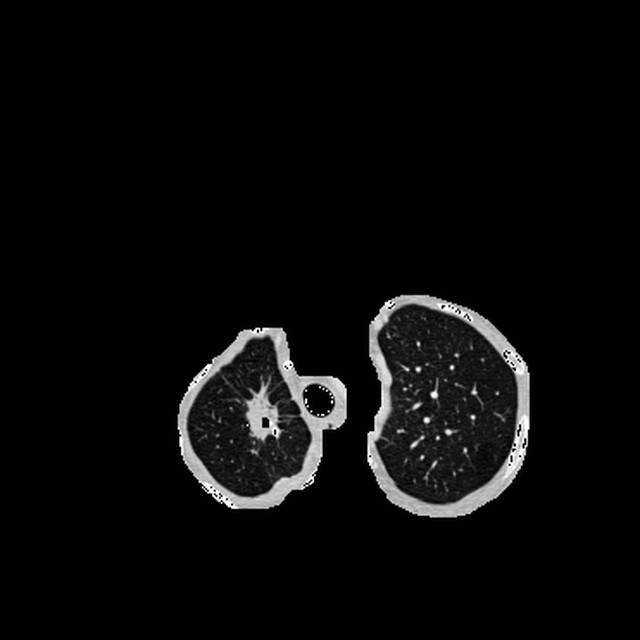PN: (247, 402, 281, 436)
